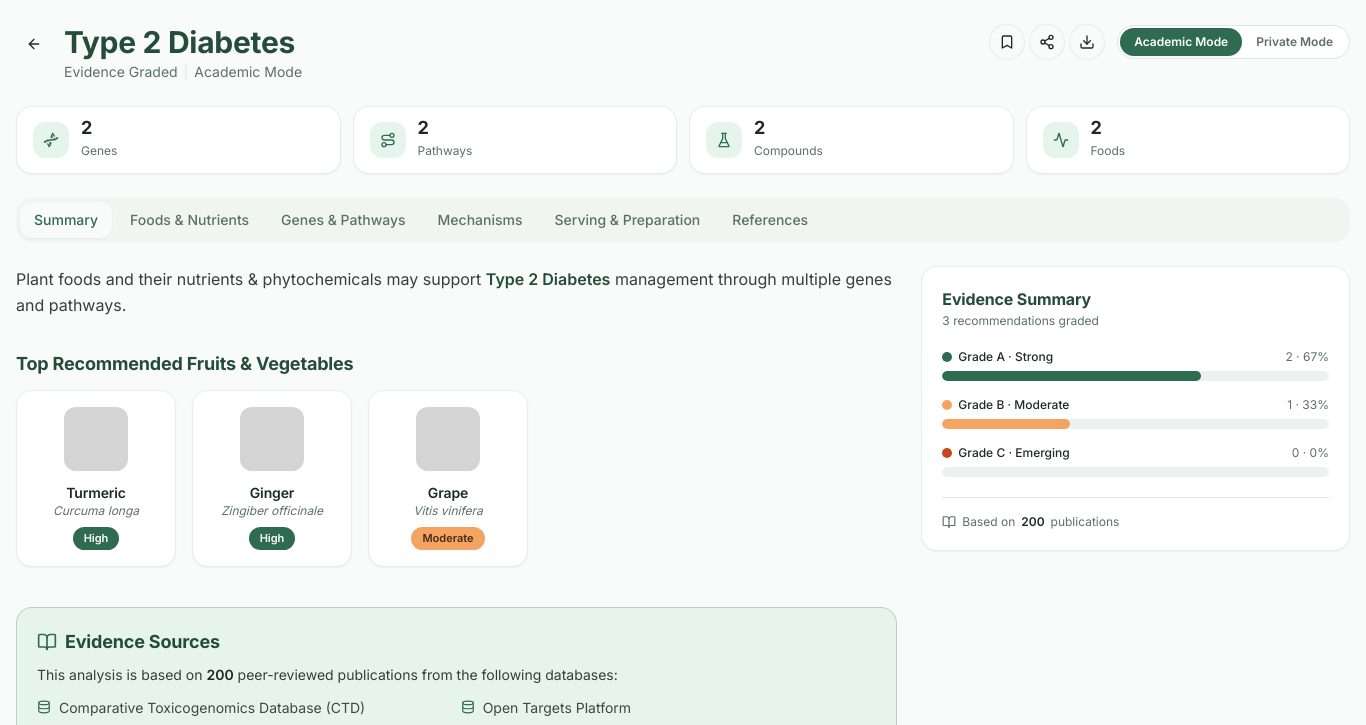
Test case: Food cards › expands and collapses that food's PubMed sources
Expected: the tab "References" is shown, top-left (718, 202), bottom-right (822, 238)
Press the mouse on the tab "Foods & Nutrients" at x=190, y=220, box top-left (116, 202), bottom-right (263, 238)
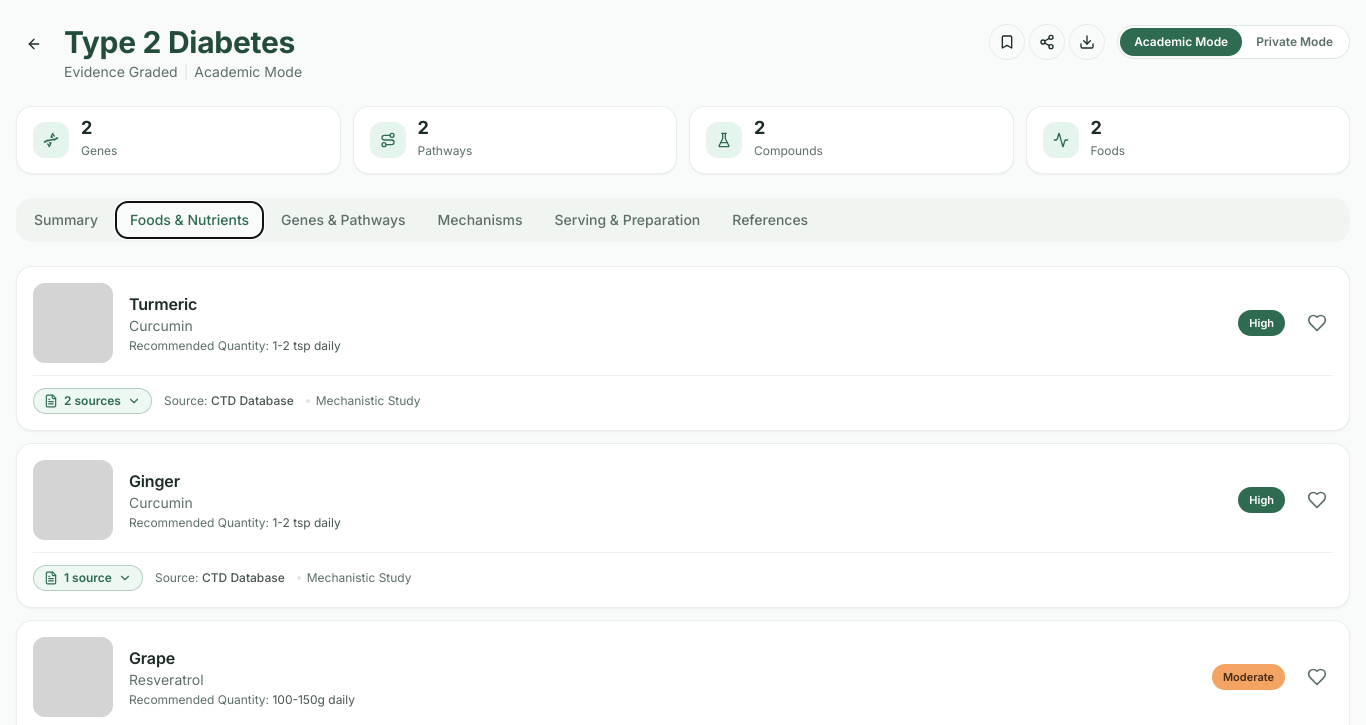
Expected: the link "PubMed: 23456789" is not shown
Click the button "2 sources" at x=92, y=401, box top-left (33, 388), bottom-right (152, 414)
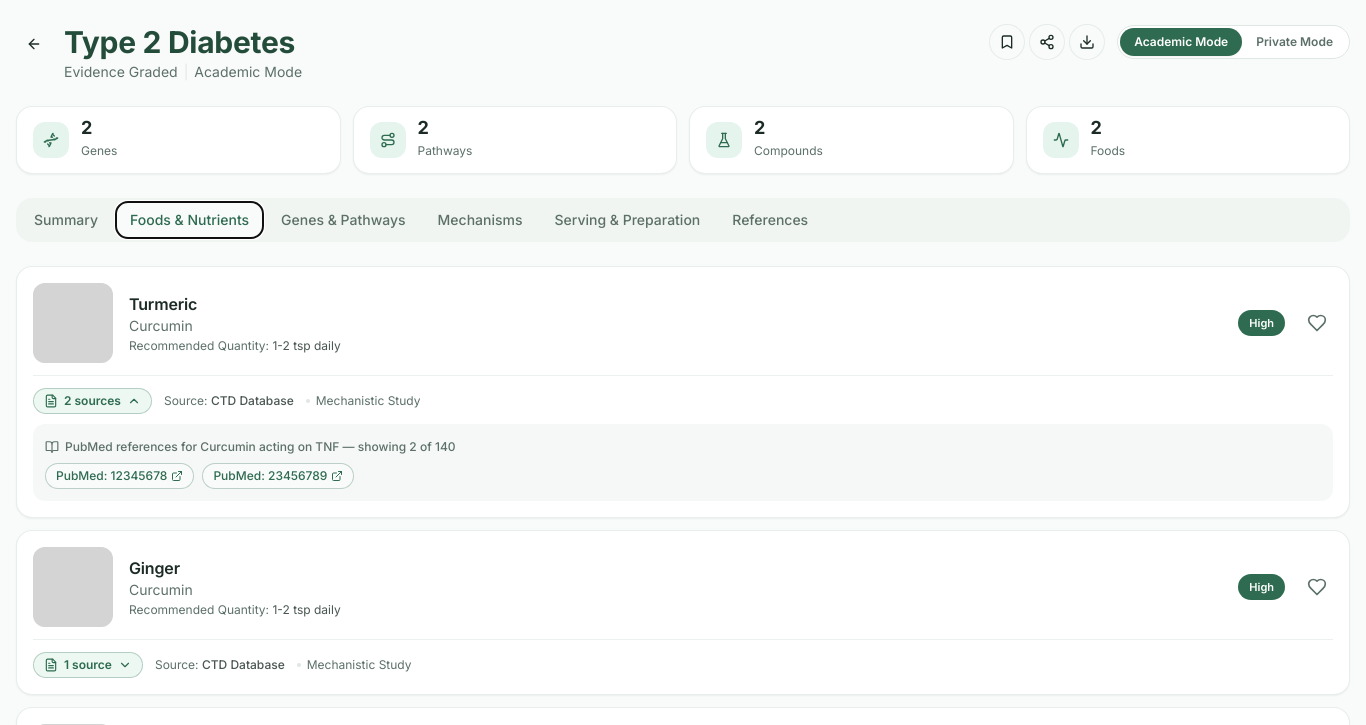
Result: the button "2 sources" is expanded
Click the button "2 sources" at x=92, y=401, box top-left (33, 388), bottom-right (152, 414)
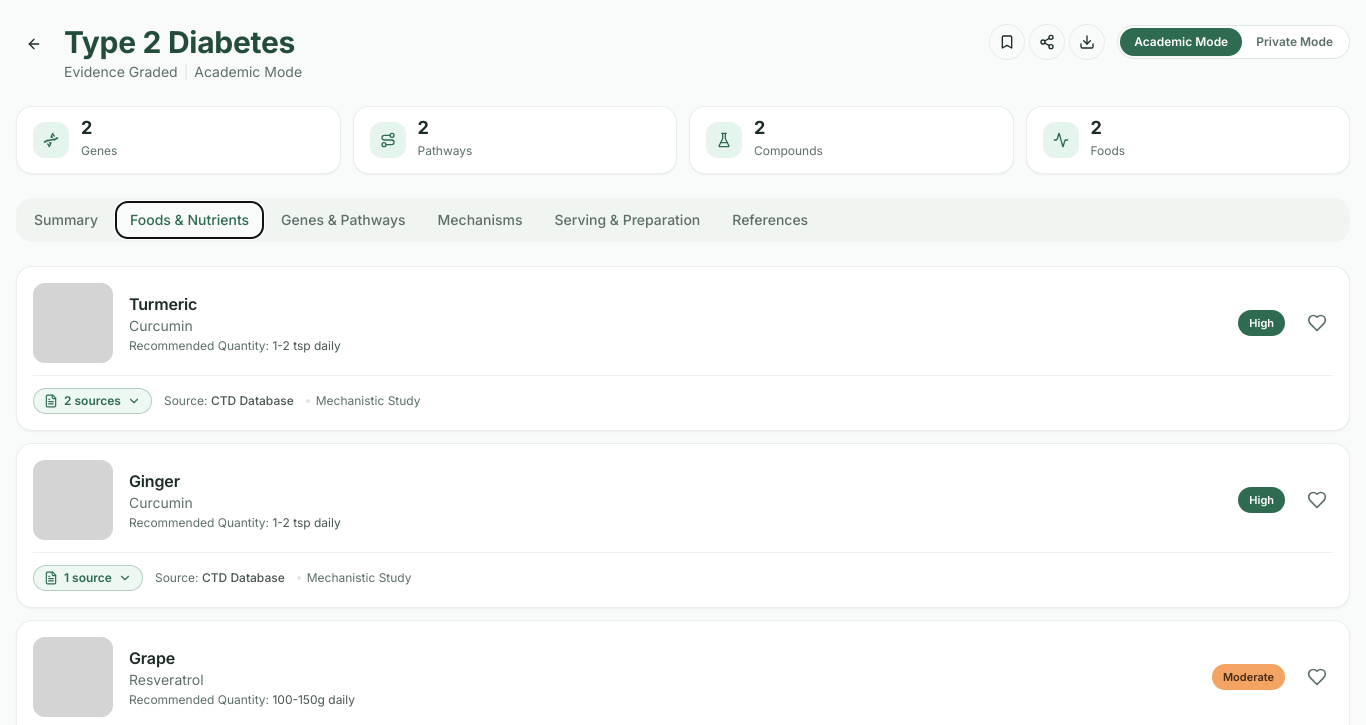
Result: the button "2 sources" is collapsed at top-left (33, 388), bottom-right (152, 414)
Result: the link "PubMed: 23456789" is gone
